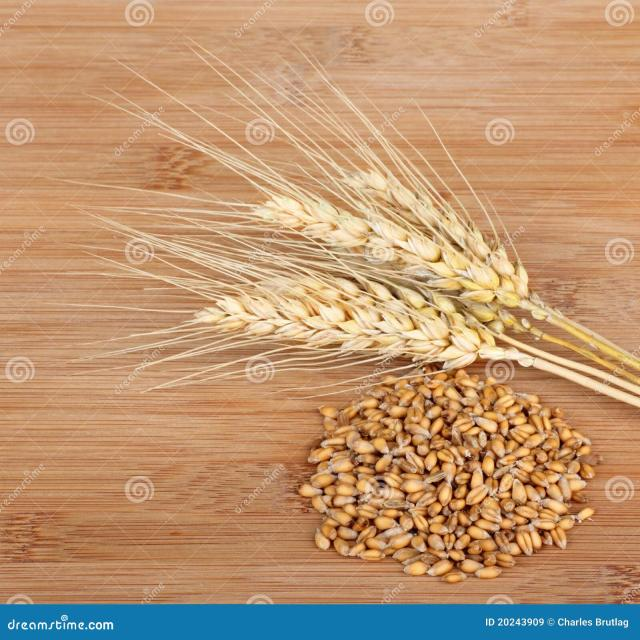Wheathead: (205, 168, 526, 373)
